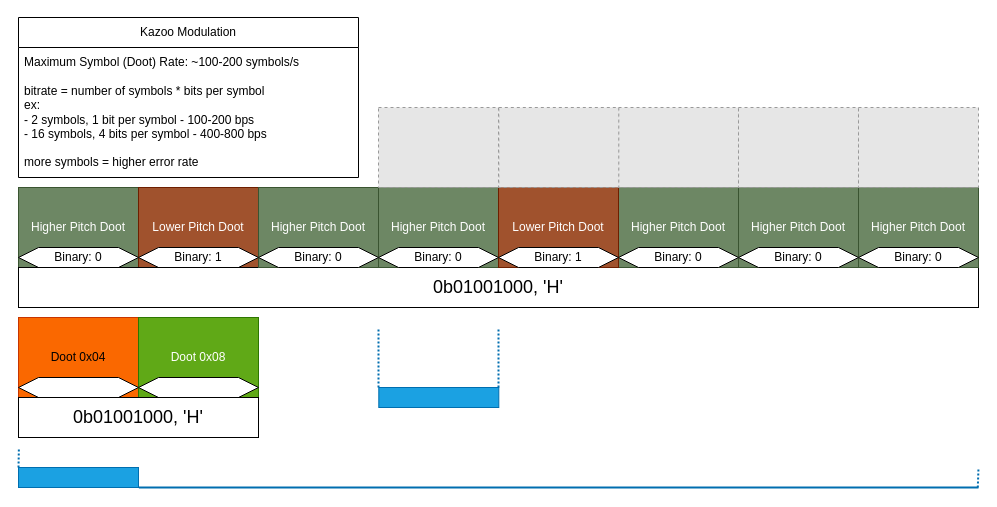
This 997x507 diagram has some shape labels left out. Grey dashed boxes stand in for pictures. Here are the shapes that lost their labels. From the top down, the centre of each, then its label:
(x=78, y=387): Binary: 0100
(x=198, y=387): Binary: 1000
(x=438, y=397): 0.005 seconds (5 ms)
(x=78, y=477): 0.04 seconds (40 ms)
